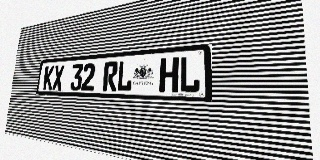2: (81, 63, 96, 91)
3: (70, 64, 84, 91)
H: (159, 57, 179, 92)
K: (43, 66, 55, 90)
L: (179, 55, 200, 93), (117, 60, 133, 92)
R: (102, 61, 118, 91)
X: (52, 65, 64, 90)
